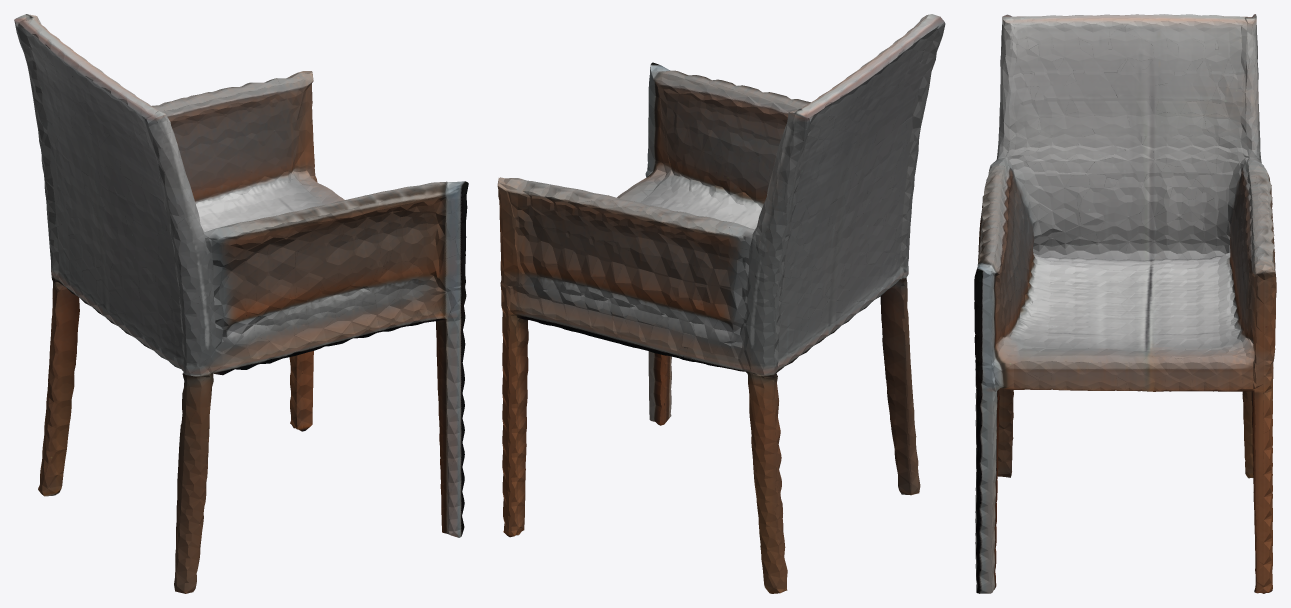
File: elem_115_131_206_213_2_3.obj
3 views of the same model, side by side, from view 1: azimuth 30°, elevation 25°; view 2: azimuth 150°, elevation 25°; view 3: azimuth 270°, elevation 25° (orthographic). The views are drawn at different scales.
Bounding box in the file's own units: 0.4683 × 0.7061 × 0.431.
1 material, 1 textured.
